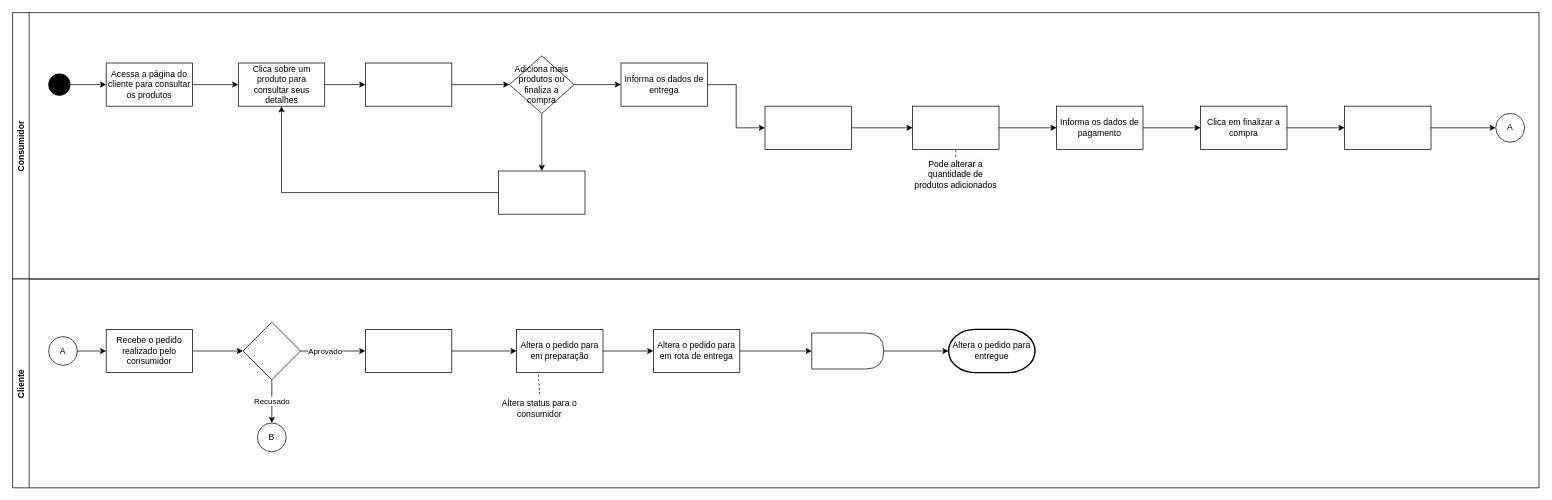
Some shapes in this 1552 by 500 pixel diagram are drawn without their labels. Here are the shapes that lost their labels. From the top down, the centre of each, then its label:
At point 408,84: "Adiciona o produto a sacola de compras".
At point 807,127: "Informa os dados pessoais para recebimento".
At point 955,127: "Consulta o subtotal e total de compra e venda".
At point 1387,127: "Envia o pedido para o restaurante".
At point 541,192: "Retorna para a consulta de produtos".
At point 271,350: "Decide se aprova ou reprova o pedido".
At point 408,351: "Adiciona o pedido à fila de preparação".
At point 847,350: "Aguarda 1 hora".
